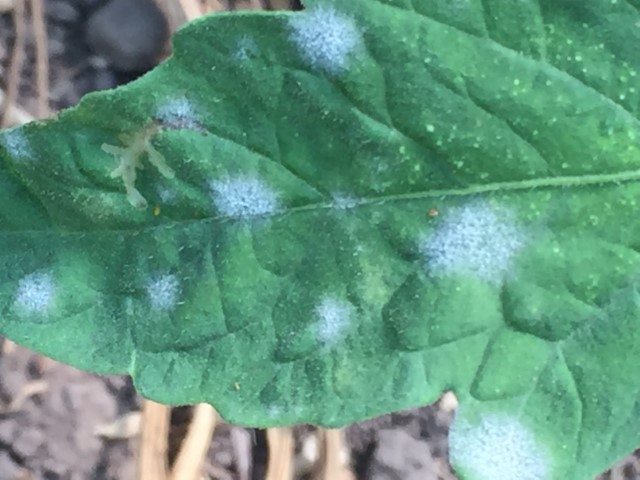oidio: (420, 198, 524, 281), (286, 5, 363, 74), (207, 172, 284, 222), (312, 291, 354, 346), (11, 269, 53, 317), (155, 96, 199, 131), (1, 129, 37, 167), (148, 274, 179, 310), (232, 33, 256, 63), (330, 193, 358, 210), (153, 185, 175, 202)
